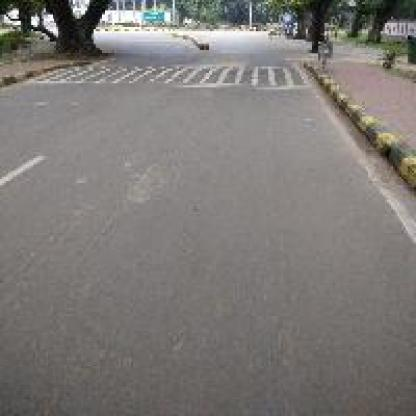Speed Bump: (40, 60, 306, 86)
